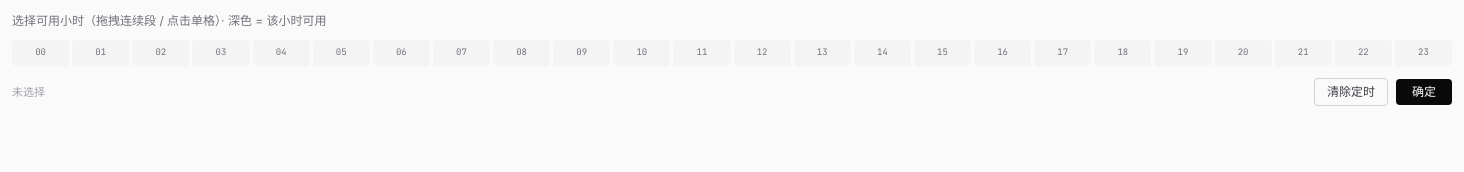
Test: HourGridPicker — 确定校验与回调 › 确定 0 格 → errEmpty 显示且不回调
Click the button with test id "hour-grid-confirm". click: (1424, 92)
box: [1396,79,1452,105]
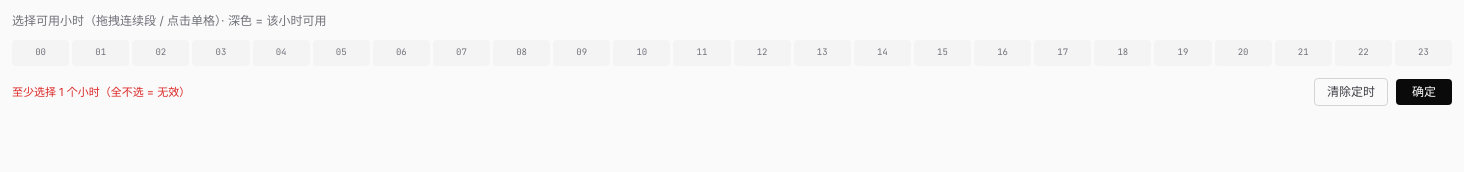
Expected: the text with test id "hour-grid-error" shows "至少选择 1 个小时", [12,85,190,99]
